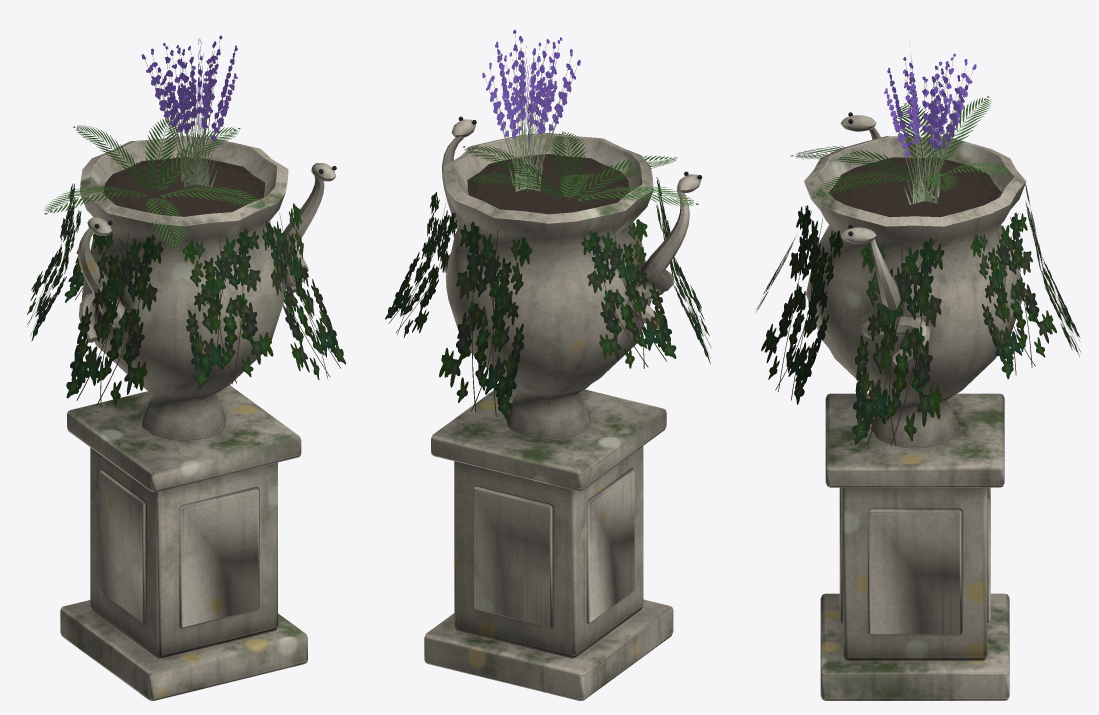
File: UrnPedestal.fbx
3 views of the same model, side by side, from view 1: azimuth 30°, elevation 25°; view 2: azimuth 150°, elevation 25°; view 3: azimuth 270°, elevation 25° (orthographic). The views are drawn at different scales.
Visible parts, largest first — view 1: UrnPedestal_Main, UrnPedestal_Leaves; view 2: UrnPedestal_Main, UrnPedestal_Leaves; view 3: UrnPedestal_Main, UrnPedestal_Leaves.
Boxes of the visible parts, x1,y1,x2,y2 form: UrnPedestal_Main: (60, 136, 336, 700); UrnPedestal_Leaves: (27, 35, 345, 406); UrnPedestal_Main: (424, 116, 702, 700); UrnPedestal_Leaves: (385, 30, 710, 419); UrnPedestal_Main: (804, 112, 1026, 700); UrnPedestal_Leaves: (755, 39, 1081, 446).
Bounding box in the file's own units: 356 × 701 × 341.
